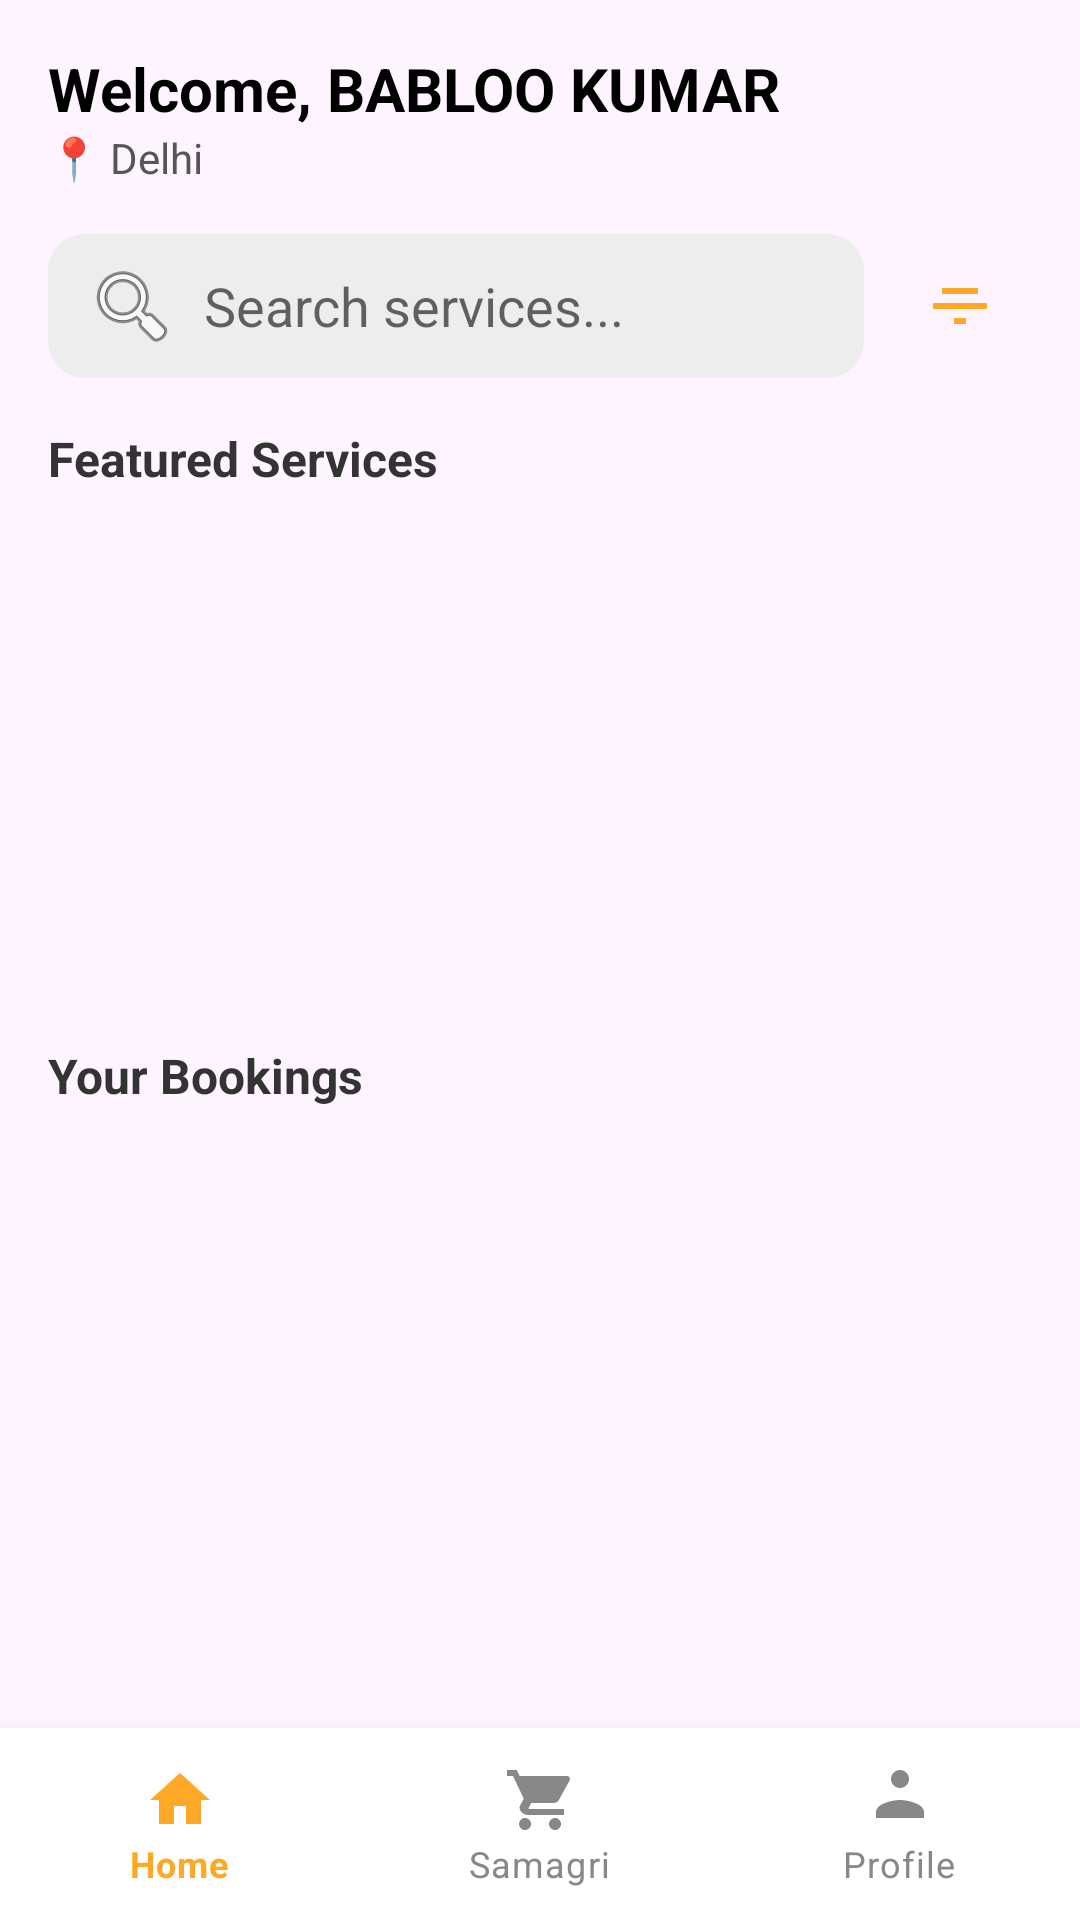

Named icons in this screenshot (1080px×1920px) and their bounding boxes, BBox(x1, y1, x2, y2):
filter: BBox(933, 288, 987, 324)
